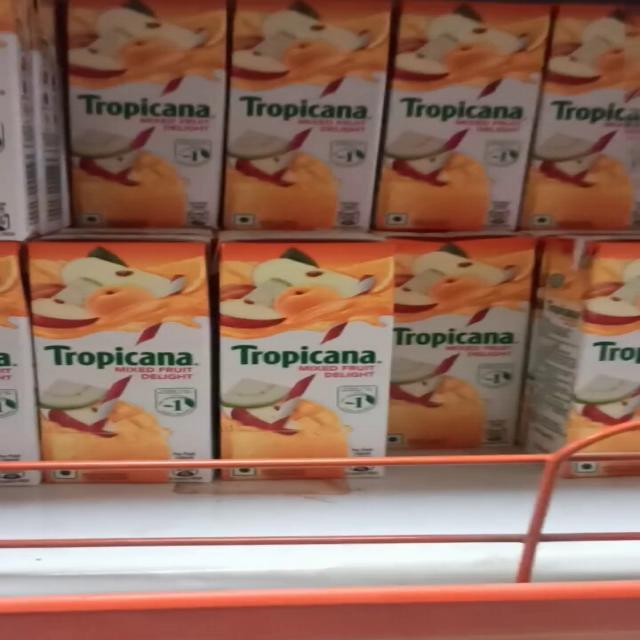Tropicana: (28, 238, 209, 491), (223, 239, 401, 486), (393, 0, 561, 230), (57, 2, 219, 222), (224, 0, 381, 221)
